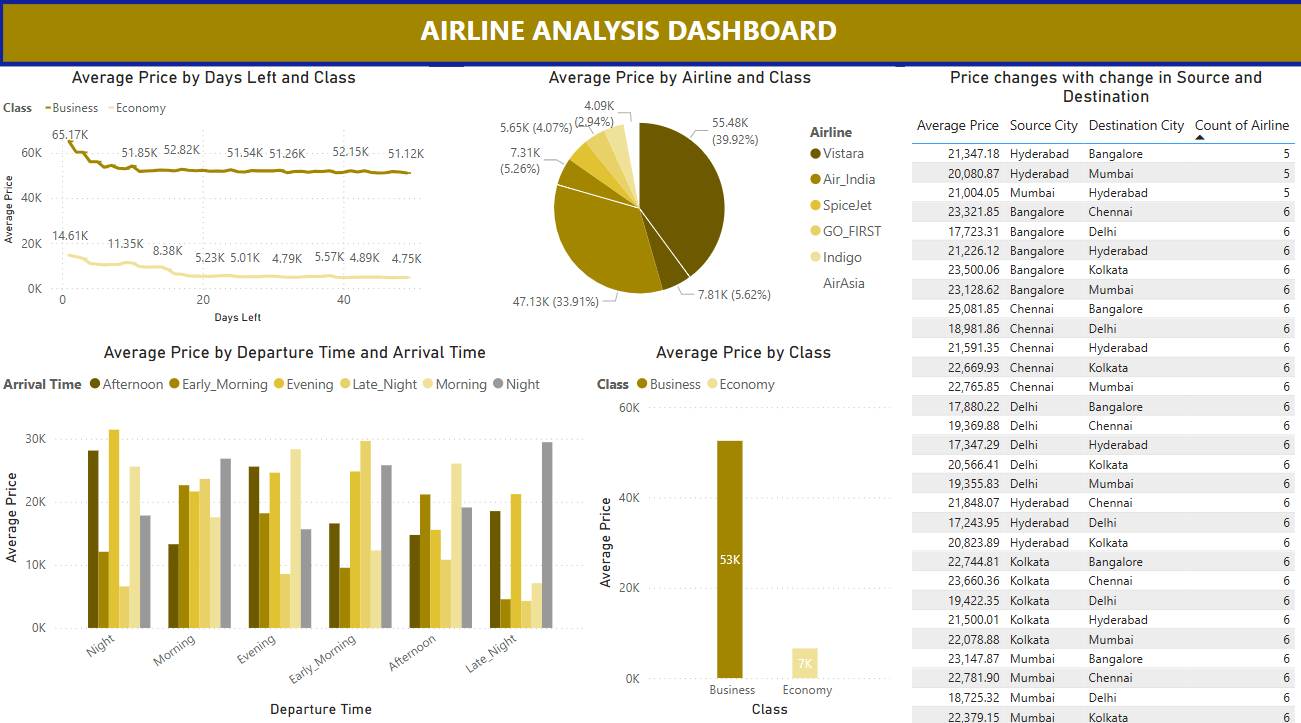

The page's visual inventory and layout, read from the dashboard file:
{"tool":"powerbi","page":{"name":"Page 1","canvas":[1280,720],"ordinal":0},"visuals":[{"type":"shape","box":[0,0,1280,66.4],"z":0},{"type":"lineChart","title":"Average Price by Days Left and Class","fields":{"Category":["Clean_Dataset.days_left"],"Y":["Clean_Dataset.AVG_PRICE"],"Series":["Clean_Dataset.class"]},"box":[0,66,421.9,256.8],"z":1000},{"type":"pieChart","title":"Average Price by Airline and Class","fields":{"Y":["Clean_Dataset.AVG_PRICE"],"Category":["Clean_Dataset.airline"],"Series":["Clean_Dataset.class"]},"box":[456.1,66,421.9,256.8],"z":2000},{"type":"clusteredColumnChart","fields":{"Y":["Clean_Dataset.AVG_PRICE"],"Category":["Clean_Dataset.departure_time"],"Series":["Clean_Dataset.arrival_time"]},"box":[0,335.1,580.8,373],"z":3000},{"type":"tableEx","title":"Price changes with change in Source and Destination","fields":{"Values":["Clean_Dataset.AVG_PRICE","Clean_Dataset.source_city","Clean_Dataset.destination_city","Clean_Dataset.airline"]},"box":[887.8,66,392.5,654.2],"z":4000},{"type":"ribbonChart","title":"Average Price by Class","fields":{"Y":["Clean_Dataset.AVG_PRICE"],"Category":["Clean_Dataset.class"],"Series":["Clean_Dataset.class"]},"box":[581,335,297,373],"z":5000},{"type":"textbox","box":[408.4,6.1,479.4,52.6],"z":6000}]}

Visuals, with their boxes in screenshot pixels (x1, y1, x2, y2), scaled from the page's 1280x720 canvas onto the 1301x723 screenshot:
shape: <region>0, 0, 1300, 67</region>
"Average Price by Days Left and Class" lineChart: <region>0, 66, 429, 324</region>
"Average Price by Airline and Class" pieChart: <region>464, 66, 892, 324</region>
clusteredColumnChart - Clean_Dataset.AVG_PRICE x Clean_Dataset.departure_time: <region>0, 336, 590, 711</region>
"Price changes with change in Source and Destination" tableEx: <region>902, 66, 1300, 722</region>
"Average Price by Class" ribbonChart: <region>591, 336, 892, 711</region>
textbox: <region>415, 6, 902, 59</region>
